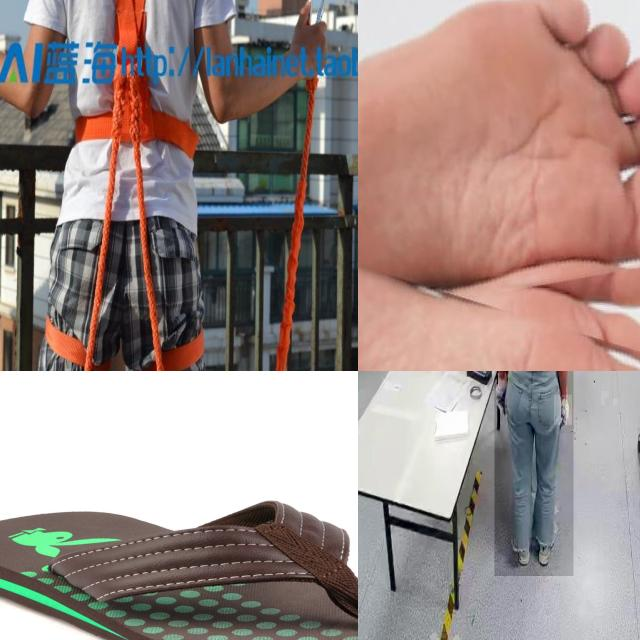Barefoots: (358, 0, 640, 292)
Harness: (76, 0, 190, 153)
Sandals: (0, 497, 358, 640)
hand_glove: (494, 379, 512, 417), (554, 394, 572, 426)
person: (494, 371, 573, 576)
shoes: (532, 513, 562, 566), (511, 520, 537, 574)
